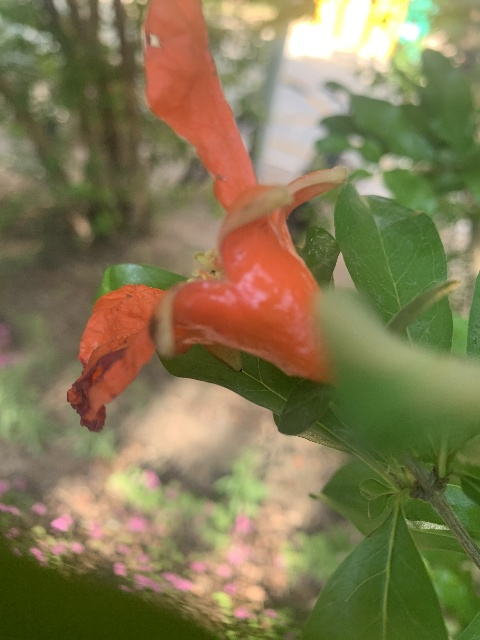flower: (67, 0, 348, 430)
